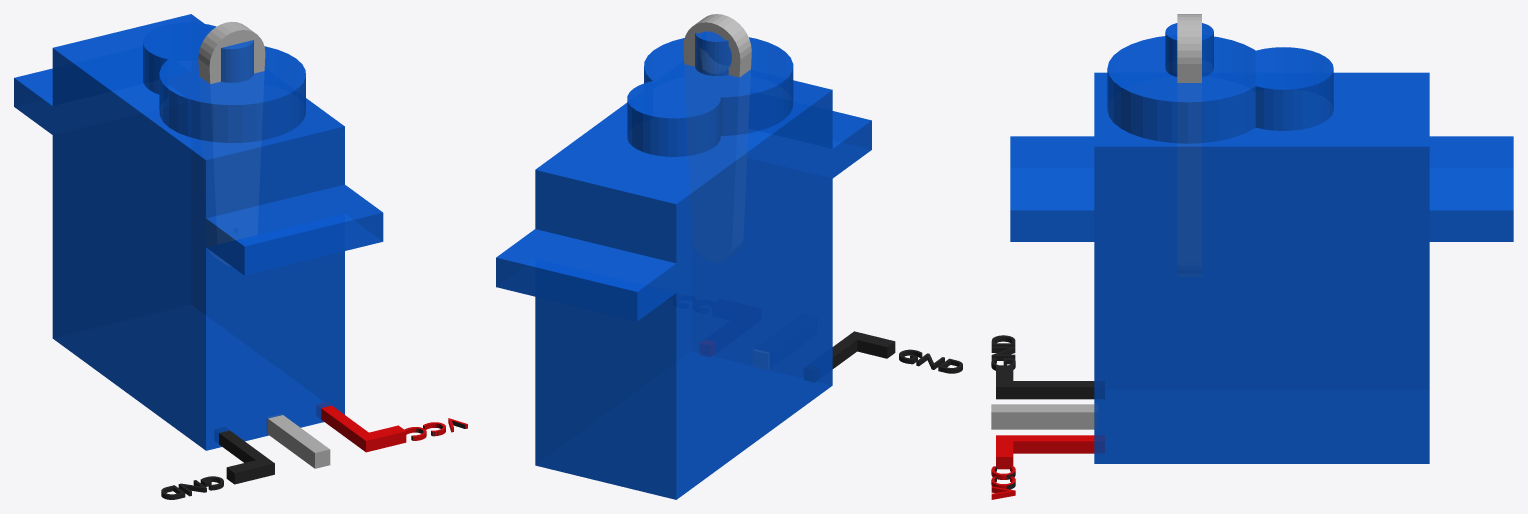
File: Servomotor.fbx
The picture shows the model from 3 angles, left to right: view 1: azimuth 30°, elevation 25°; view 2: azimuth 150°, elevation 25°; view 3: azimuth 270°, elevation 25°; orthographic projection. The views are drawn at different scales.
Visible parts, largest first — view 1: Servomotor, Extension, Cube, Cube.002, Cube.001, Text, Text.001; view 2: Servomotor, Extension, Cube.001, Text; view 3: Servomotor, Extension, Cube.002, Cube.001, Cube, Text.
Part boxes in pixels (x1,y1,x2,y2): Servomotor: [14, 14, 383, 450]; Extension: [198, 21, 265, 265]; Cube: [317, 403, 406, 452]; Cube.002: [266, 414, 330, 468]; Cube.001: [215, 427, 274, 484]; Text: [161, 420, 465, 499]; Text.001: [404, 418, 467, 440]; Servomotor: [496, 31, 871, 499]; Extension: [683, 14, 751, 262]; Cube.001: [804, 331, 895, 381]; Text: [899, 349, 962, 373]; Servomotor: [1010, 23, 1513, 463]; Extension: [1177, 14, 1201, 275]; Cube.002: [991, 404, 1097, 429]; Cube.001: [996, 365, 1104, 399]; Cube: [996, 435, 1104, 469]; Text: [991, 335, 1015, 489].
Bounding box in the file's own units: 2.59 × 3.1 × 3.58.
